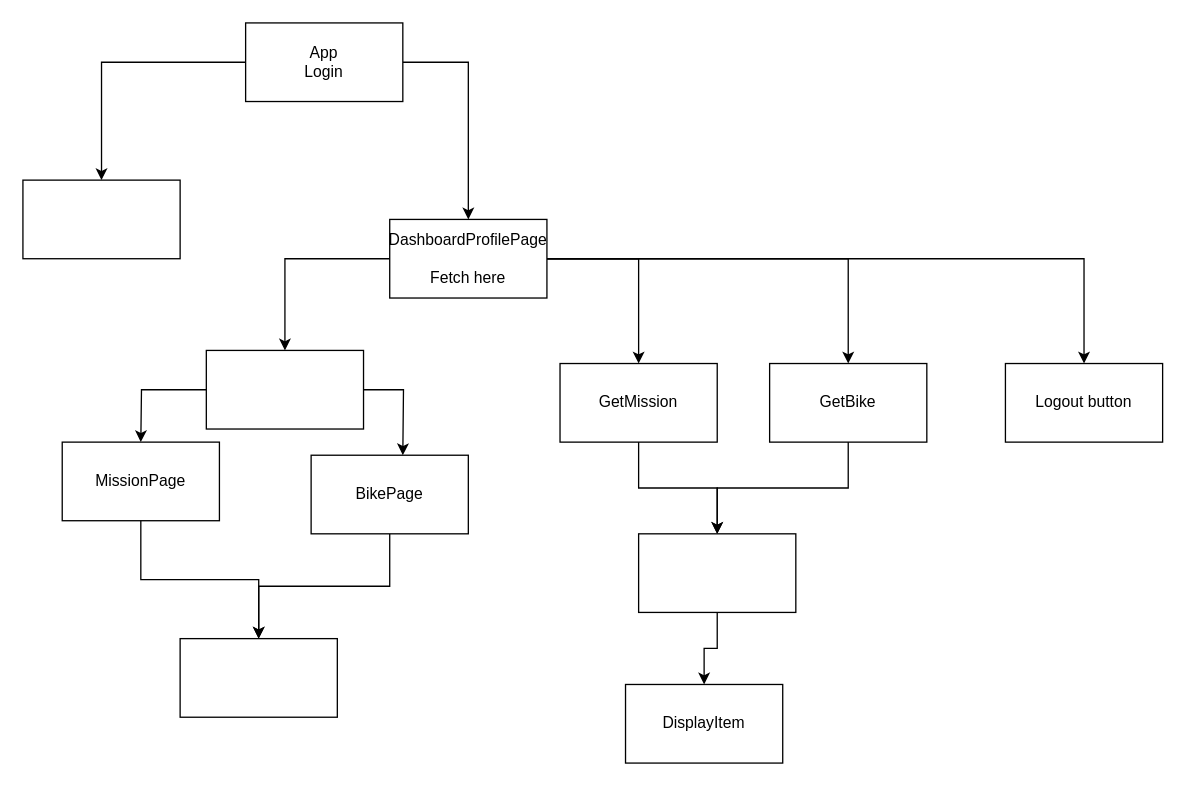
Some shapes in this 1186 by 786 pixel diagram are drawn without their labels. Each missing label, with the box of its shape:
Button: (637, 533, 796, 612)
DisplayItems: (179, 637, 337, 717)
Login button: (22, 179, 180, 259)
NavBar: (205, 349, 364, 429)
